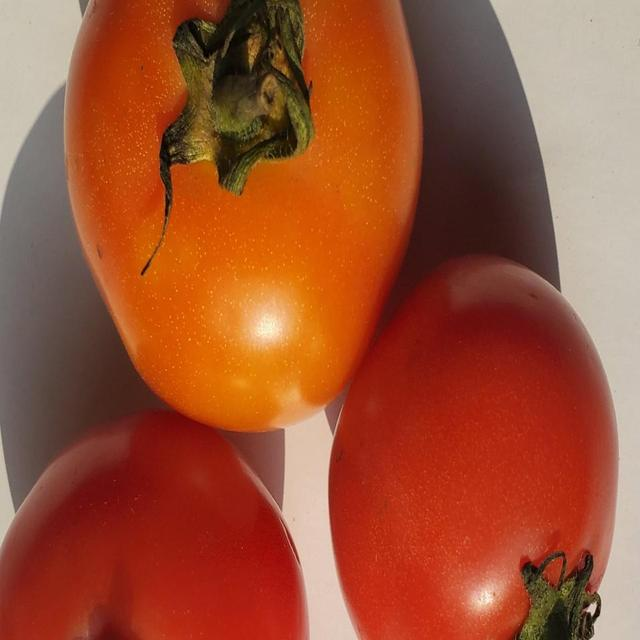Healthy Fruit: (105, 148, 315, 348)
